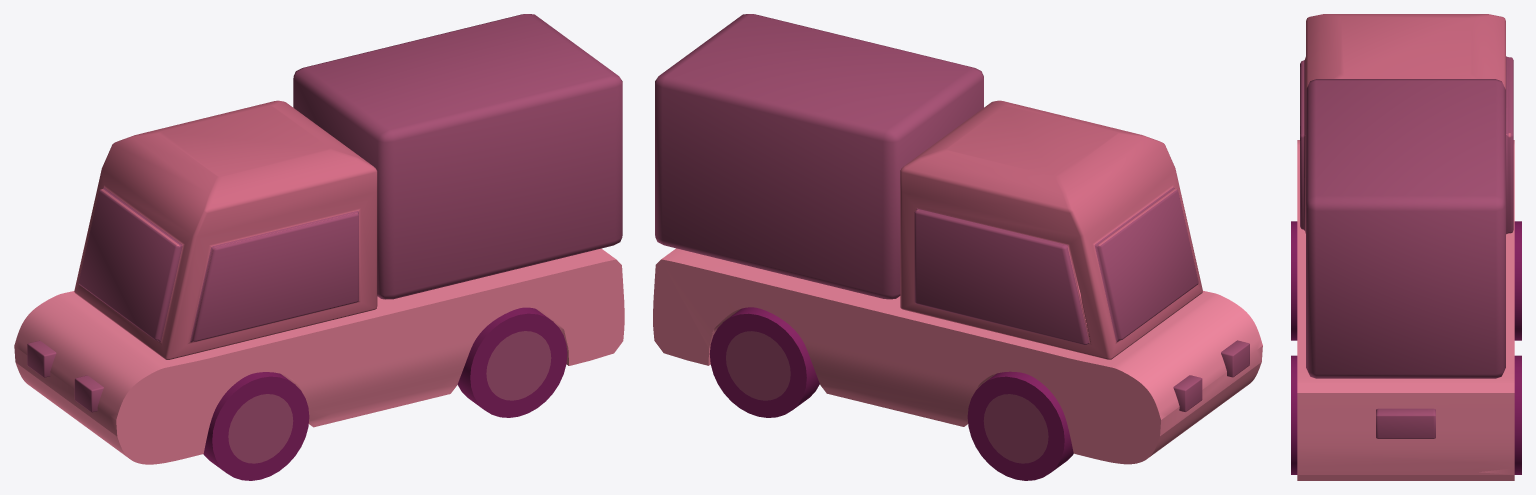
The model's file is dostawczak.gltf.
3 views of the same model, side by side, from view 1: azimuth 30°, elevation 25°; view 2: azimuth 150°, elevation 25°; view 3: azimuth 270°, elevation 25° (orthographic). The views are drawn at different scales.
Visible parts, largest first — view 1: Cube.002, Cube.003, Cube.001, Circle.001, Circle, Cube.005; view 2: Cube.002, Cube.003, Cube.001, Circle.002, Circle.003, Cube.005; view 3: Cube.002, Cube.001, Cube.003, Cube.004, Circle.003, Circle.002, Circle, Circle.001.
Part boxes in pixels (x1=…): Cube.002: x1=293, y1=14, x2=622, y2=299; Cube.003: x1=74, y1=100, x2=377, y2=359; Cube.001: x1=14, y1=248, x2=624, y2=464; Circle.001: x1=457, y1=307, x2=567, y2=417; Circle: x1=203, y1=372, x2=309, y2=480; Cube.005: x1=27, y1=340, x2=103, y2=412; Cube.002: x1=655, y1=14, x2=983, y2=299; Cube.003: x1=900, y1=100, x2=1202, y2=359; Cube.001: x1=653, y1=248, x2=1262, y2=464; Circle.002: x1=709, y1=307, x2=819, y2=417; Circle.003: x1=967, y1=371, x2=1073, y2=480; Cube.005: x1=1173, y1=340, x2=1249, y2=411; Cube.002: x1=1306, y1=79, x2=1505, y2=378; Cube.001: x1=1297, y1=140, x2=1514, y2=480; Cube.003: x1=1300, y1=14, x2=1513, y2=234; Cube.004: x1=1376, y1=408, x2=1435, y2=438; Circle.003: x1=1514, y1=221, x2=1521, y2=340; Circle.002: x1=1514, y1=355, x2=1521, y2=474; Circle: x1=1291, y1=221, x2=1297, y2=340; Circle.001: x1=1291, y1=355, x2=1297, y2=474.
Bounding box in the file's own units: 6.48 × 3.62 × 2.31.
Materials: 3 (3 with a texture image).
